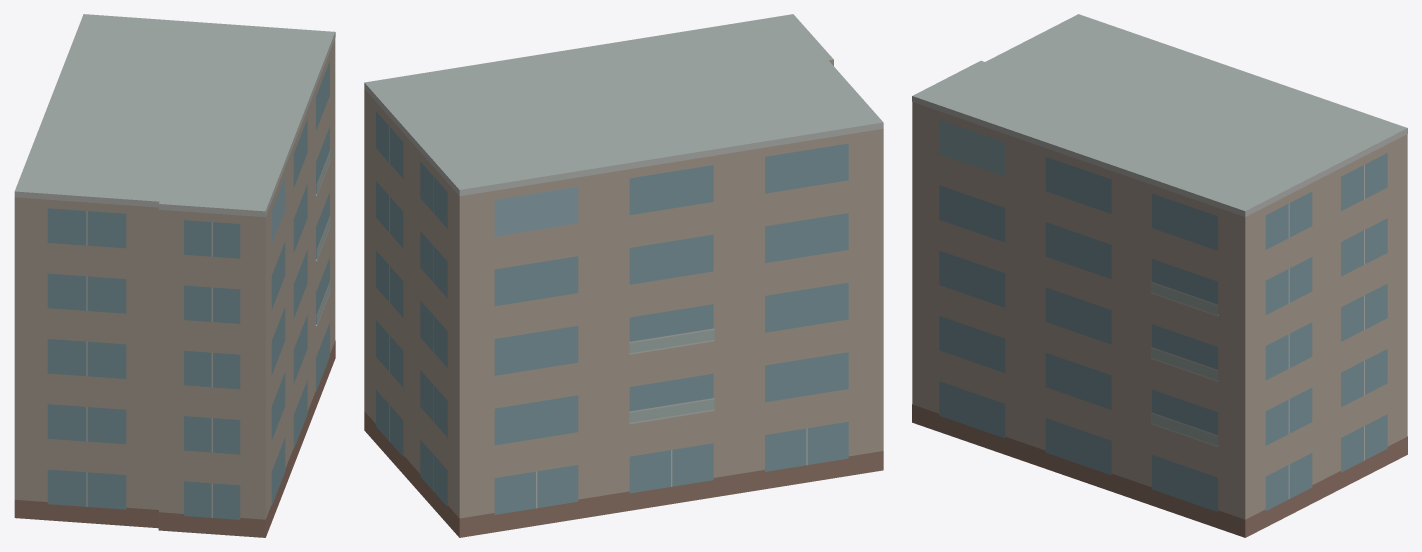
Rendered from survey-upis-32656907.glb.
3 views of the same model, side by side, from view 1: azimuth 30°, elevation 25°; view 2: azimuth 150°, elevation 25°; view 3: azimuth 270°, elevation 25° (orthographic). The views are drawn at different scales.
Visible parts, largest first — view 1: survey-upis-32656907.tmp; view 2: survey-upis-32656907.tmp; view 3: survey-upis-32656907.tmp.
Boxes of the visible parts, x1,y1,x2,y2 form: survey-upis-32656907.tmp: (14,14,335,537); survey-upis-32656907.tmp: (364,14,883,537); survey-upis-32656907.tmp: (912,14,1407,537).
Bounding box in the file's own units: 17.62 × 13.6 × 18.71.
